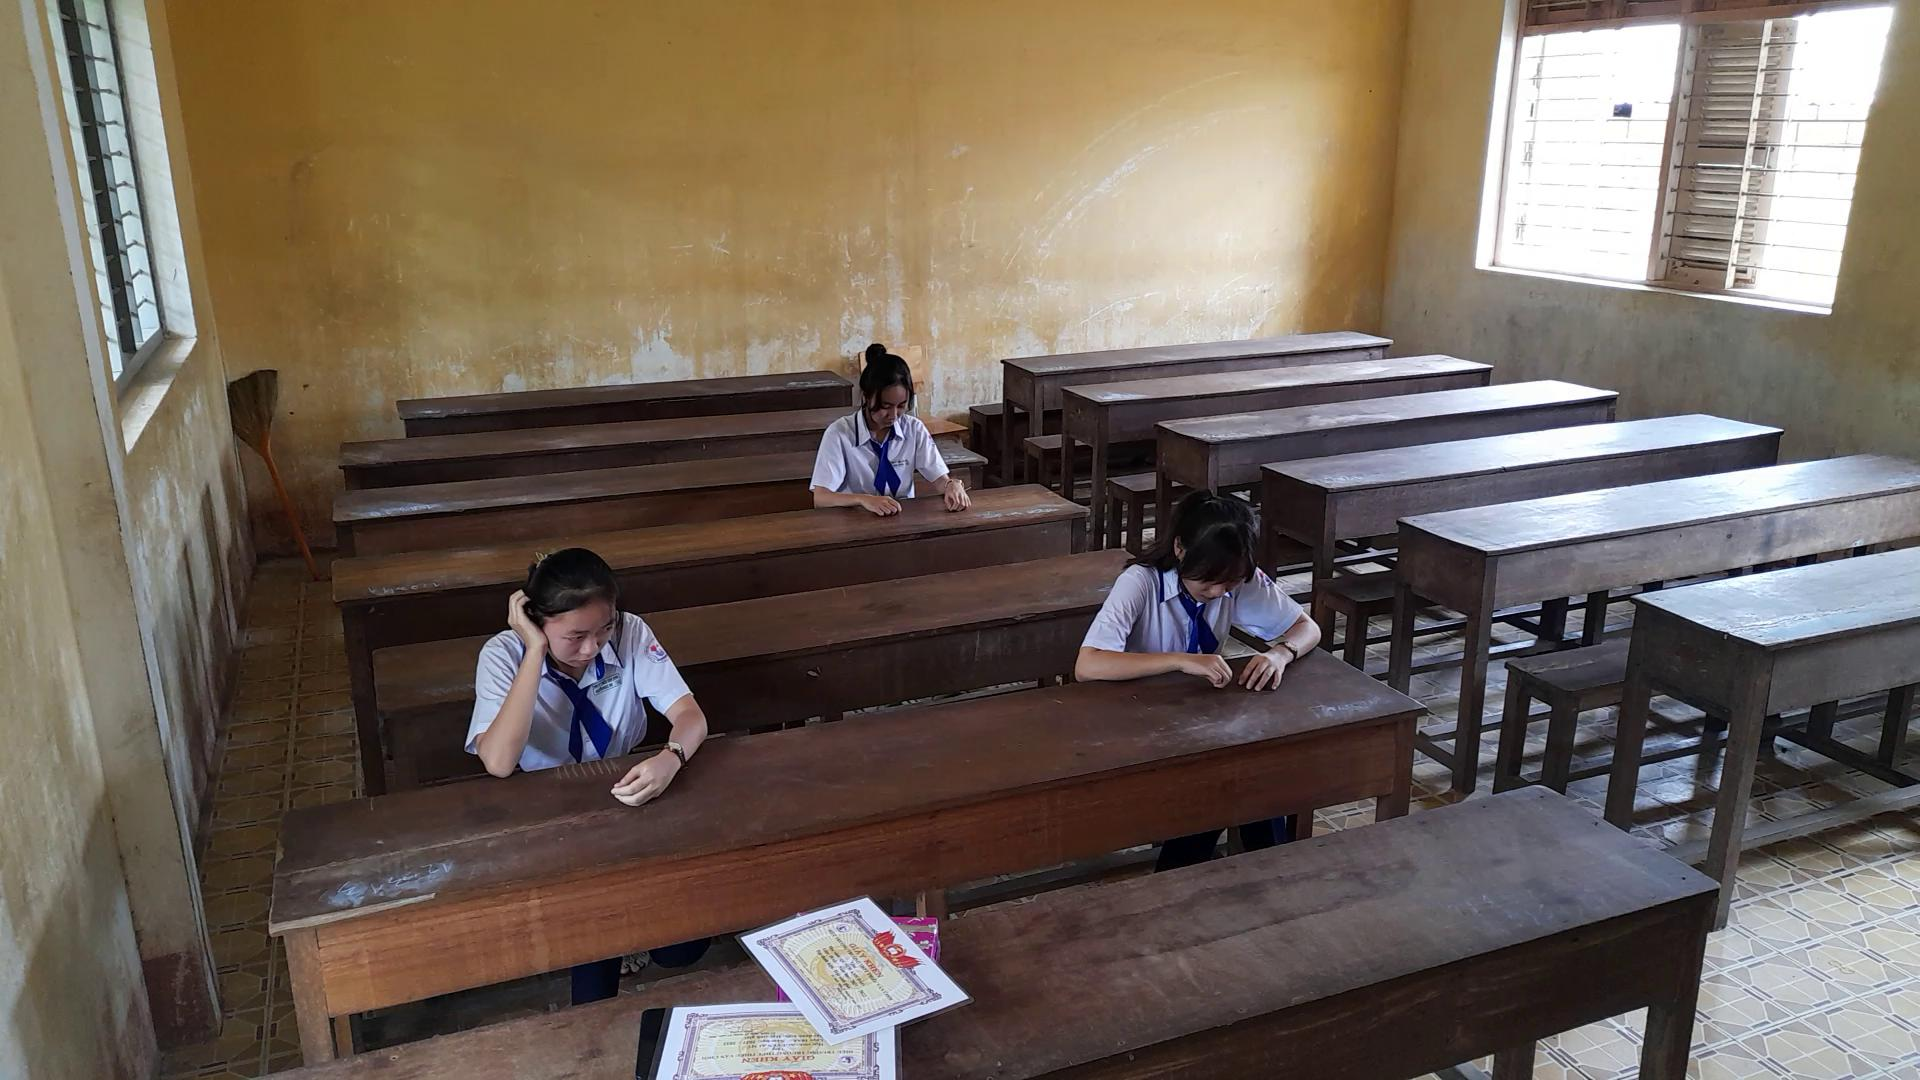Bend Over The Desk: (524, 530, 632, 683)
Normal: (1059, 473, 1340, 703), (785, 315, 984, 531)
Wave: (444, 584, 543, 794)
